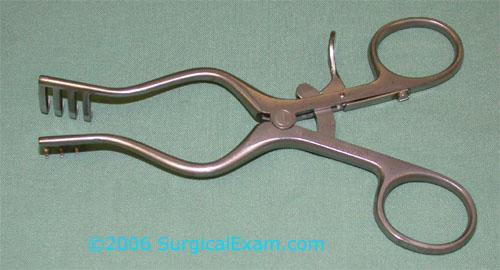Self Retractor: (32, 16, 481, 254)
